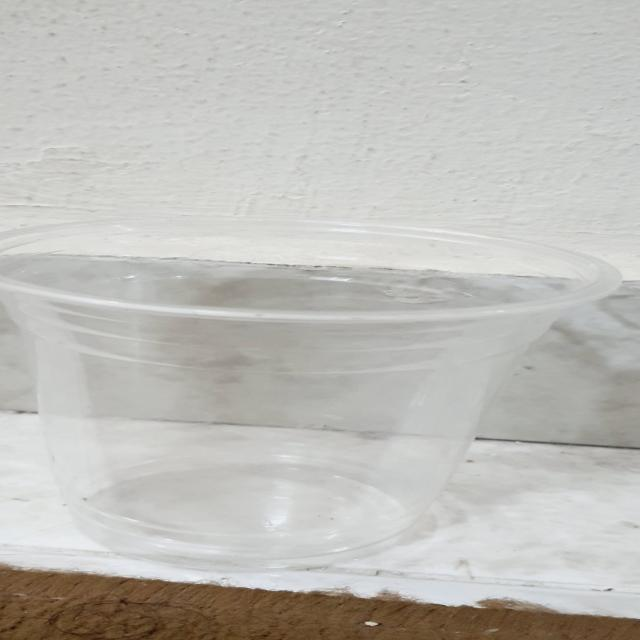plastic: (0, 217, 619, 586)
